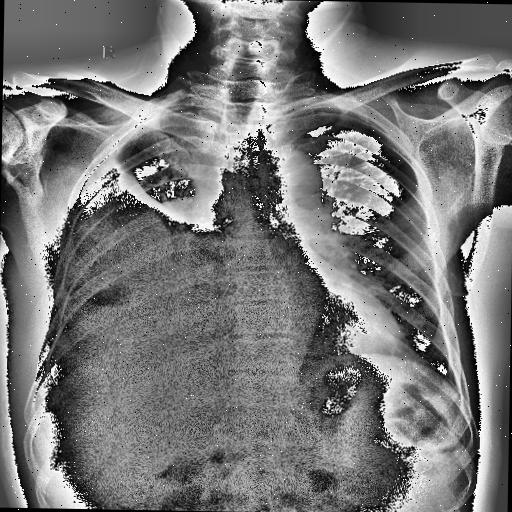0- Aortic enlargement: (258, 146, 334, 230), (246, 144, 324, 206), (279, 150, 324, 201)
10- Pleural effusion: (60, 151, 204, 377), (63, 144, 214, 329), (62, 144, 198, 336)
